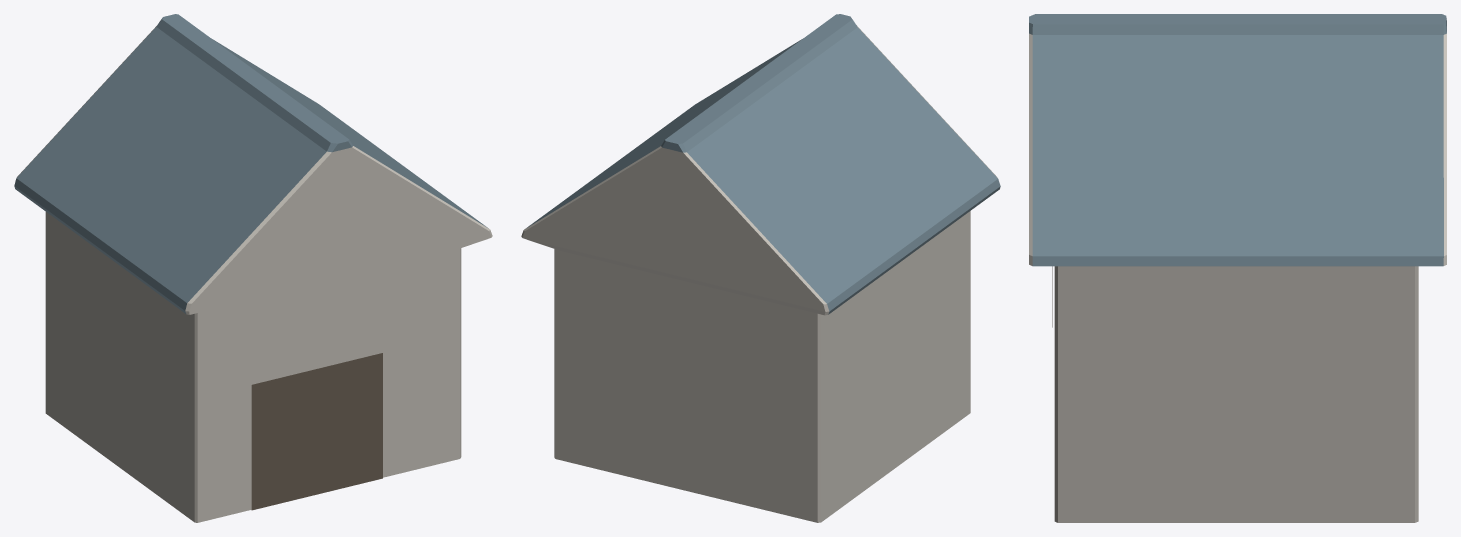
Rendered from loin.glb.
The picture shows the model from 3 angles, left to right: view 1: azimuth 30°, elevation 25°; view 2: azimuth 150°, elevation 25°; view 3: azimuth 270°, elevation 25°; orthographic projection. The views are drawn at different scales.
Visible parts, largest first — view 1: loin; view 2: loin; view 3: loin.
Boxes of the visible parts, x1,y1,x2,y2 form: loin: (14, 14, 492, 522); loin: (521, 14, 1000, 522); loin: (1029, 14, 1446, 522).
Bounding box in the file's own units: 0.8515 × 0.9404 × 0.834.
